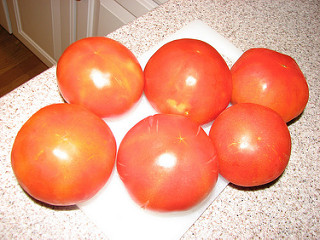tomato: (14, 103, 116, 202), (122, 117, 217, 207), (55, 35, 144, 111), (150, 35, 230, 113), (221, 49, 309, 117), (217, 107, 284, 187)
